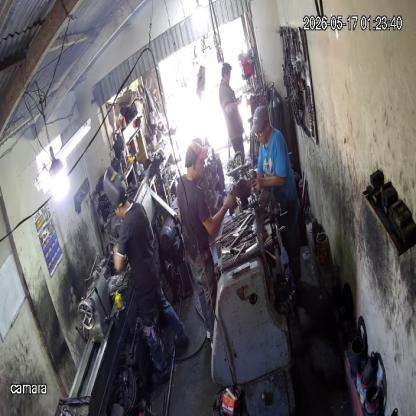lentes: (254, 123, 268, 136)
